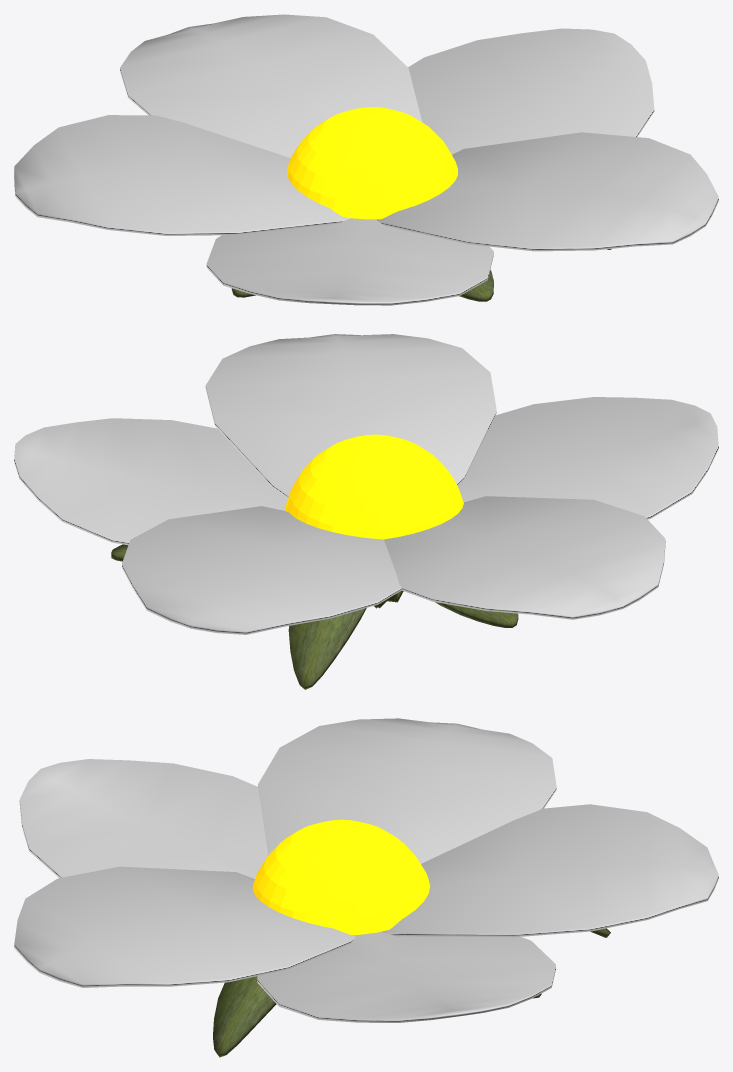
3 renders of one model, top to bottom at view 1: azimuth 30°, elevation 25°; view 2: azimuth 150°, elevation 25°; view 3: azimuth 270°, elevation 25°, orthographic. The views are drawn at different scales.
Visible parts, largest first — view 1: calyx1_001.008, calyx1_001.010, calyx1_001.009, calyx1_001.011, calyx1_001.012, Sphere.001, calyx1.001; view 2: calyx1_001.008, calyx1_001.010, calyx1_001.009, calyx1_001.012, calyx1_001.011, Sphere.001, calyx3, calyx1_001.001; view 3: calyx1_001.009, calyx1_001.008, calyx1_001.010, calyx1_001.012, calyx1_001.011, Sphere.001, calyx3_001.
Boxes of the visible parts, x1,y1,x2,y2 form: calyx1_001.008: (376, 132, 718, 251); calyx1_001.010: (14, 115, 349, 235); calyx1_001.009: (120, 14, 421, 157); calyx1_001.011: (408, 28, 654, 154); calyx1_001.012: (206, 218, 493, 305); Sphere.001: (286, 107, 457, 219); calyx1.001: (459, 270, 493, 301); calyx1_001.008: (205, 334, 496, 496); calyx1_001.010: (384, 496, 665, 619); calyx1_001.009: (121, 506, 401, 634); calyx1_001.012: (457, 397, 718, 519); calyx1_001.011: (14, 418, 288, 545); Sphere.001: (285, 434, 463, 539); calyx3: (288, 593, 397, 689); calyx1_001.001: (435, 602, 518, 627); calyx1_001.009: (382, 804, 718, 937); calyx1_001.008: (14, 866, 355, 987); calyx1_001.010: (258, 718, 556, 863); calyx1_001.012: (19, 759, 268, 878); calyx1_001.011: (257, 931, 556, 1022); Sphere.001: (252, 819, 429, 934); calyx3_001: (213, 976, 276, 1057).
Size of the model in its own units: 0.1162 by 0.1129 by 0.0278.
2 materials, 1 textured.
